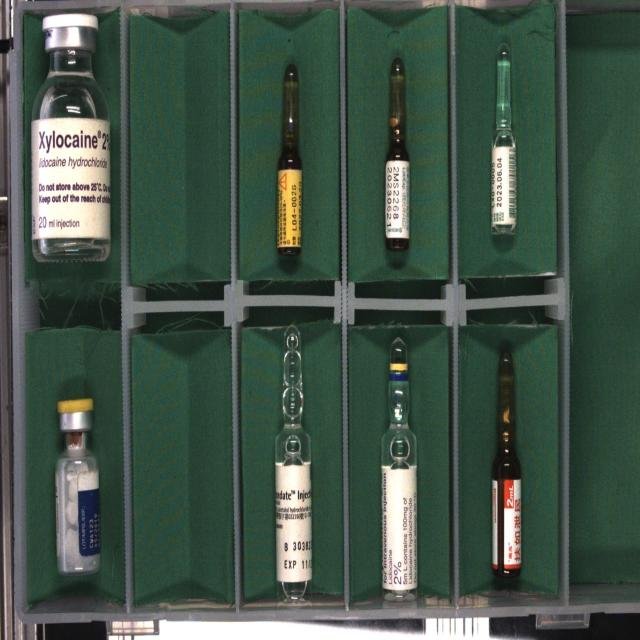Vials: (31, 13, 110, 262), (56, 398, 99, 571)
